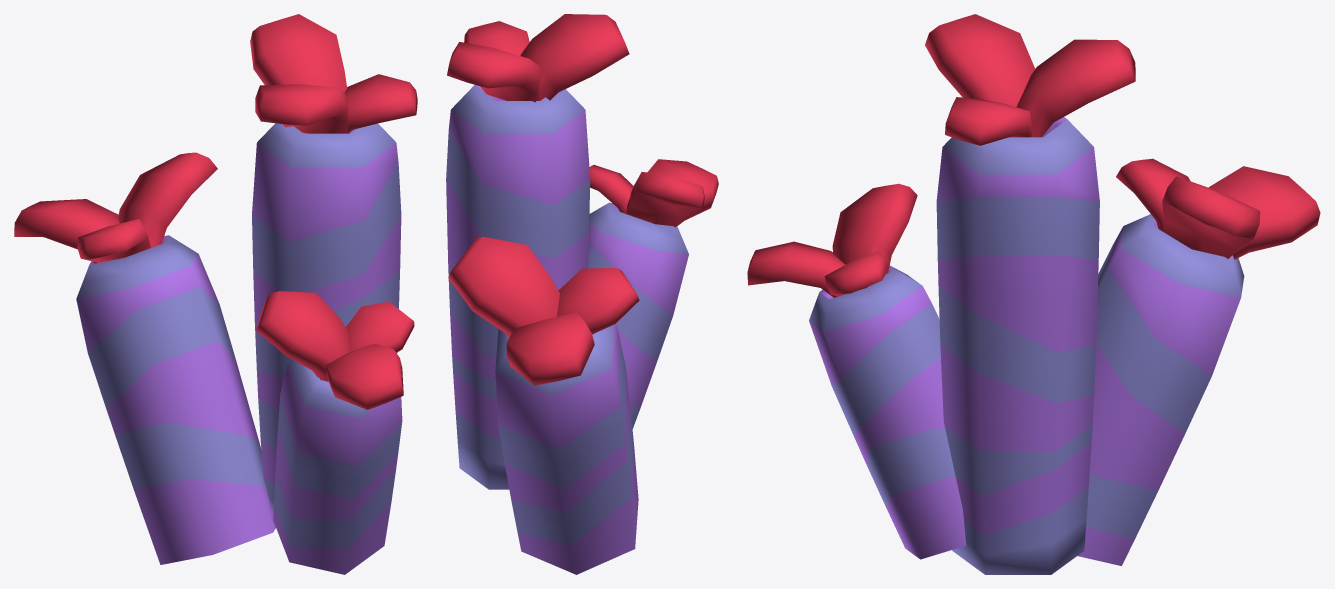
The model's file is M_Prop_CoralCluster.fbx.
3 renders of one model, left to right at view 1: azimuth 30°, elevation 25°; view 2: azimuth 150°, elevation 25°; view 3: azimuth 270°, elevation 25°, orthographic. The views are drawn at different scales.
Visible parts, largest first — view 1: Cylinder.001; view 2: Cylinder.001; view 3: Cylinder.001.
Part boxes in pixels (bbox=[...]): Cylinder.001: bbox=[14, 14, 417, 574]; Cylinder.001: bbox=[446, 14, 718, 574]; Cylinder.001: bbox=[747, 14, 1320, 574].
Bounding box in the file's own units: 380 × 662 × 707.
